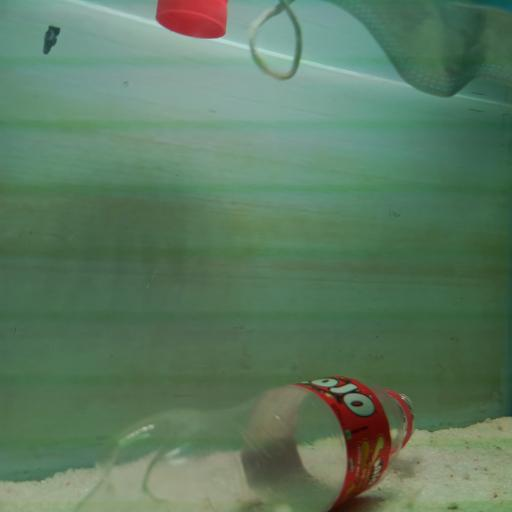bottle_cap: (158, 0, 228, 38)
mask: (249, 0, 512, 97)
plastic_bottle: (84, 376, 417, 511)
